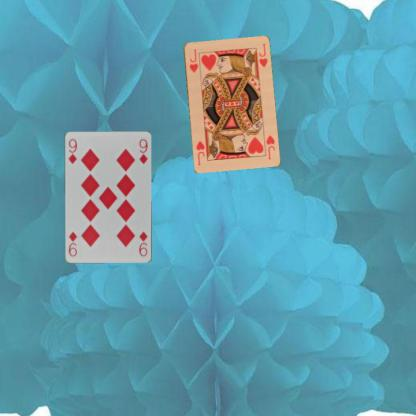9d: (136, 229, 149, 258), (66, 136, 78, 166)
Jh: (186, 46, 198, 74), (264, 132, 275, 161)
